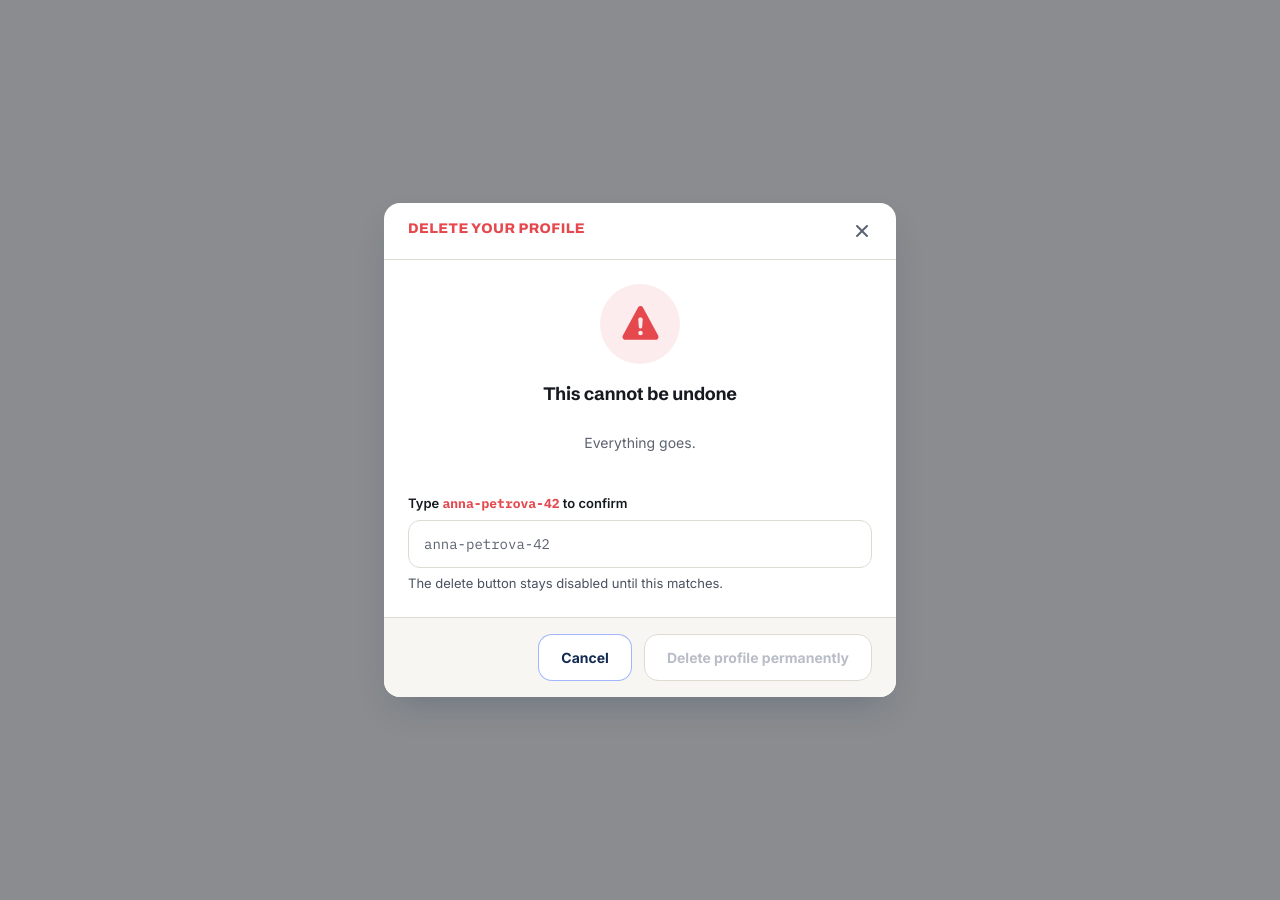
Test case: DeleteProfileDialog › keeps the delete button disabled until the username is typed
Expected: the button "Delete profile permanently" is disabled, left=644, top=634, right=872, bottom=681
Type "anna" into the field labelled "Type anna-petrova-42 to confirm" at coordinates (640, 544), box left=408, top=520, right=872, bottom=568
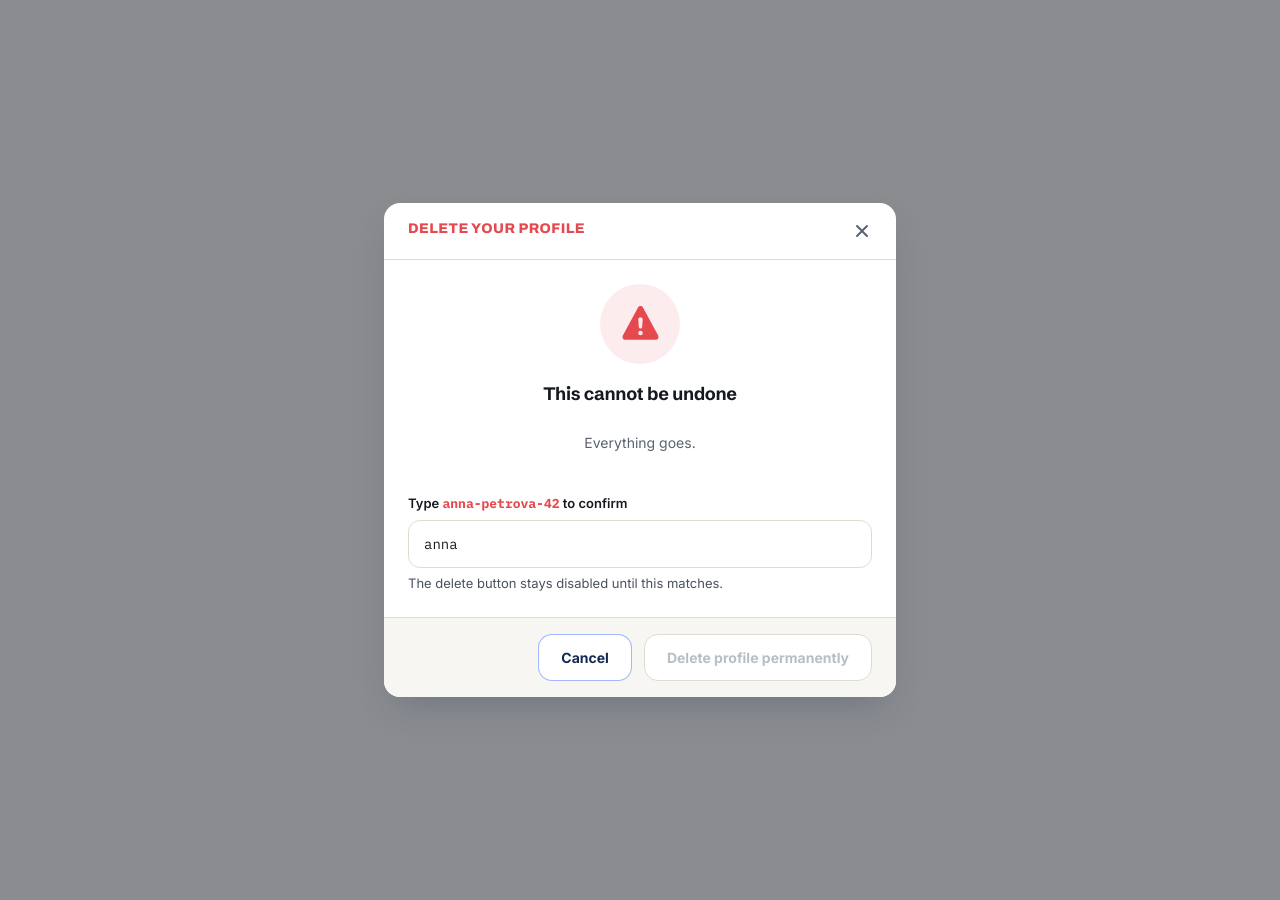
Expected: the button "Delete profile permanently" is disabled, left=644, top=634, right=872, bottom=681
Replace the text in the field labelled "Type anna-petrova-42 to confirm" with "some-other-mentor" at coordinates (640, 544), box left=408, top=520, right=872, bottom=568
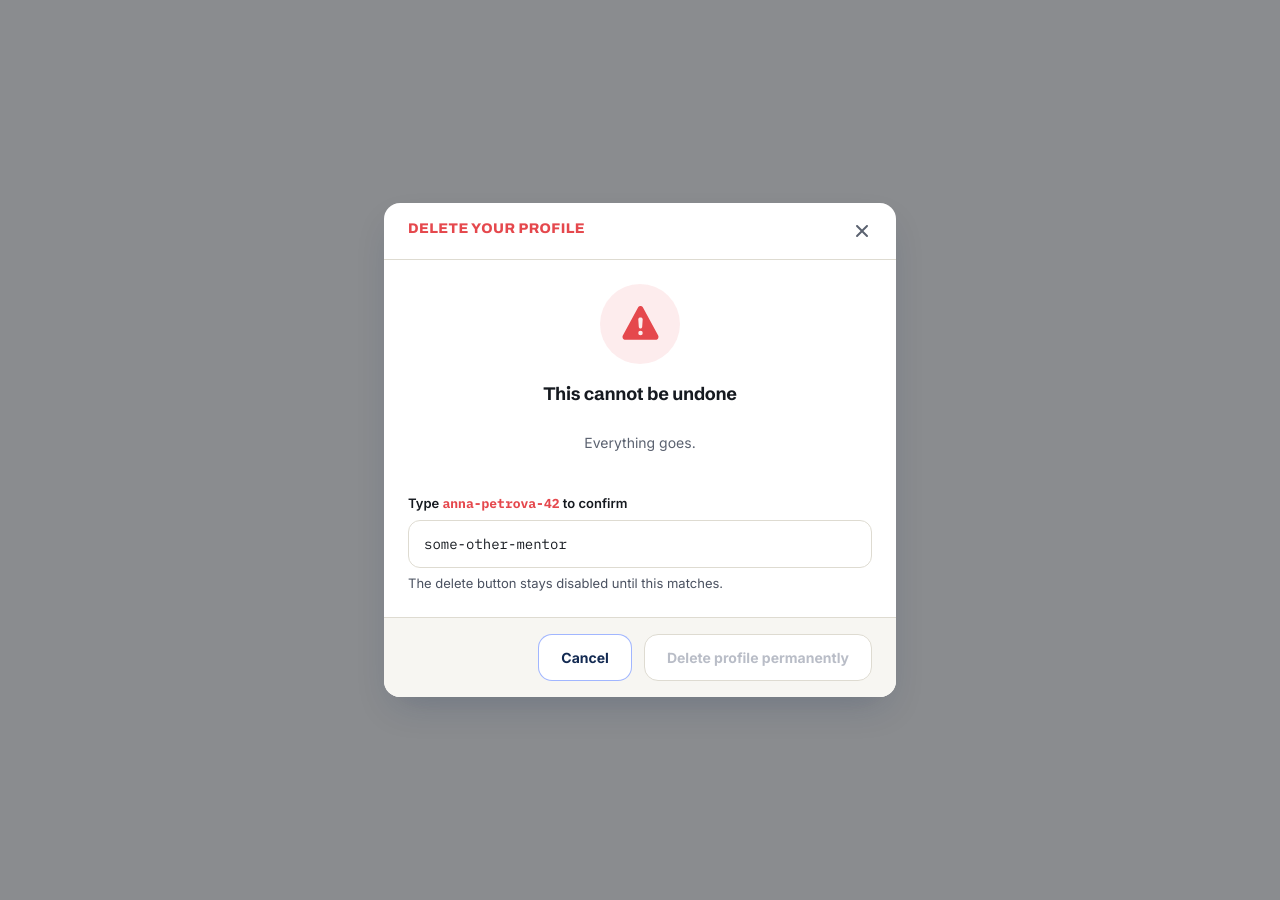
Expected: the button "Delete profile permanently" is disabled, left=644, top=634, right=872, bottom=681
Replace the text in the field labelled "Type anna-petrova-42 to confirm" with "anna-petrova-42" at coordinates (640, 544), box left=408, top=520, right=872, bottom=568
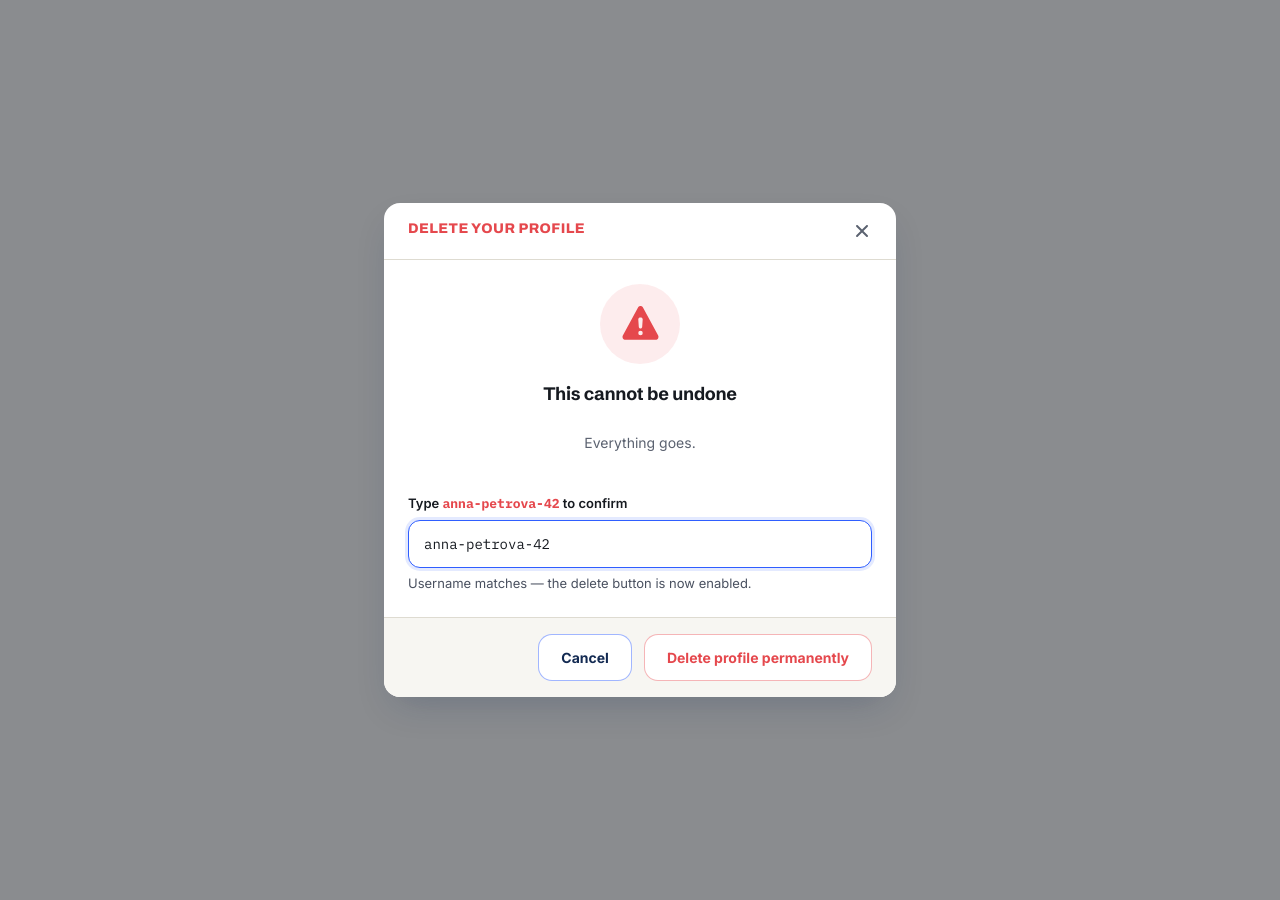
Expected: the button "Delete profile permanently" is enabled, left=644, top=634, right=872, bottom=681
